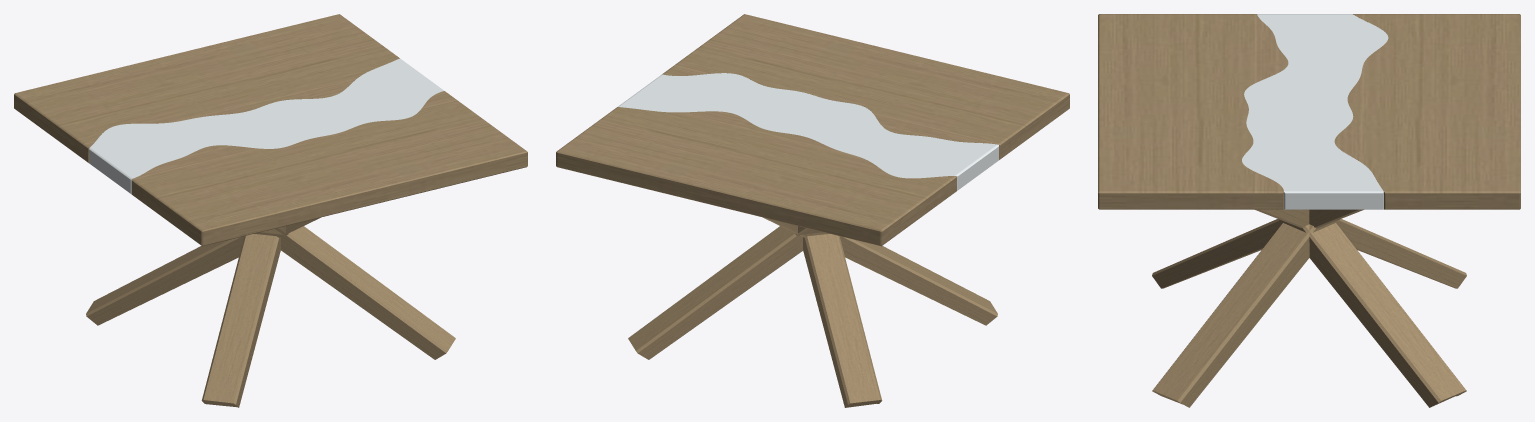
Rendered from square-ash-epoxy-clear.glb.
3 views of the same model, side by side, from view 1: azimuth 30°, elevation 25°; view 2: azimuth 150°, elevation 25°; view 3: azimuth 270°, elevation 25° (orthographic). The views are drawn at different scales.
Parts seen in each view (by area): view 1: Wood_Square_EpoxyFar, Wood_Square_EpoxyNear, Base_Square, Resin_Square; view 2: Wood_Square_EpoxyNear, Wood_Square_EpoxyFar, Base_Square, Resin_Square; view 3: Wood_Square_EpoxyFar, Wood_Square_EpoxyNear, Base_Square, Resin_Square.
Boxes of the visible parts, x1,y1,x2,y2 form: Wood_Square_EpoxyFar: (131,91,527,246); Wood_Square_EpoxyNear: (14,14,399,162); Base_Square: (86,217,455,407); Resin_Square: (89,58,443,194); Wood_Square_EpoxyNear: (556,107,956,246); Wood_Square_EpoxyFar: (662,14,1069,159); Base_Square: (628,217,997,407); Resin_Square: (618,73,998,190); Wood_Square_EpoxyFar: (1098,14,1288,209); Wood_Square_EpoxyNear: (1334,14,1520,209); Base_Square: (1152,209,1466,407); Resin_Square: (1242,14,1388,209).
Size of the model in its own units: 1.22 by 0.762 by 1.22.
2 materials, 1 textured.
